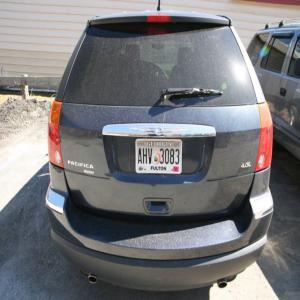Vehicle-registration-plate: (134, 137, 190, 184)
